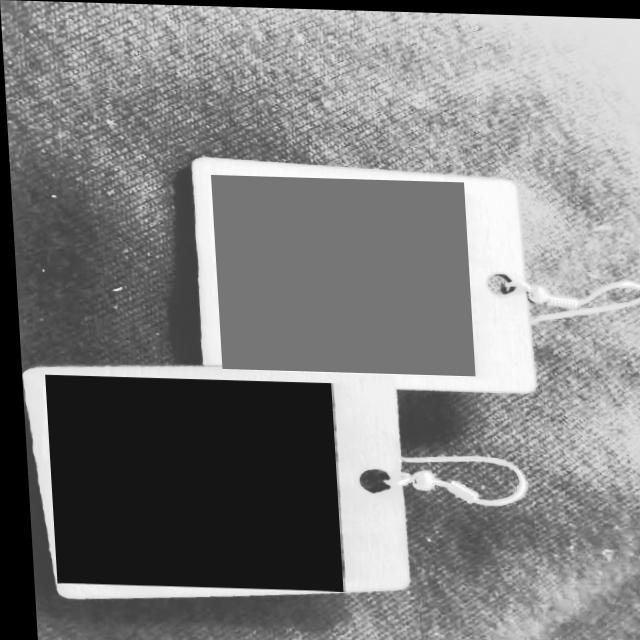qr_code: (41, 375, 339, 590), (209, 174, 471, 375)
